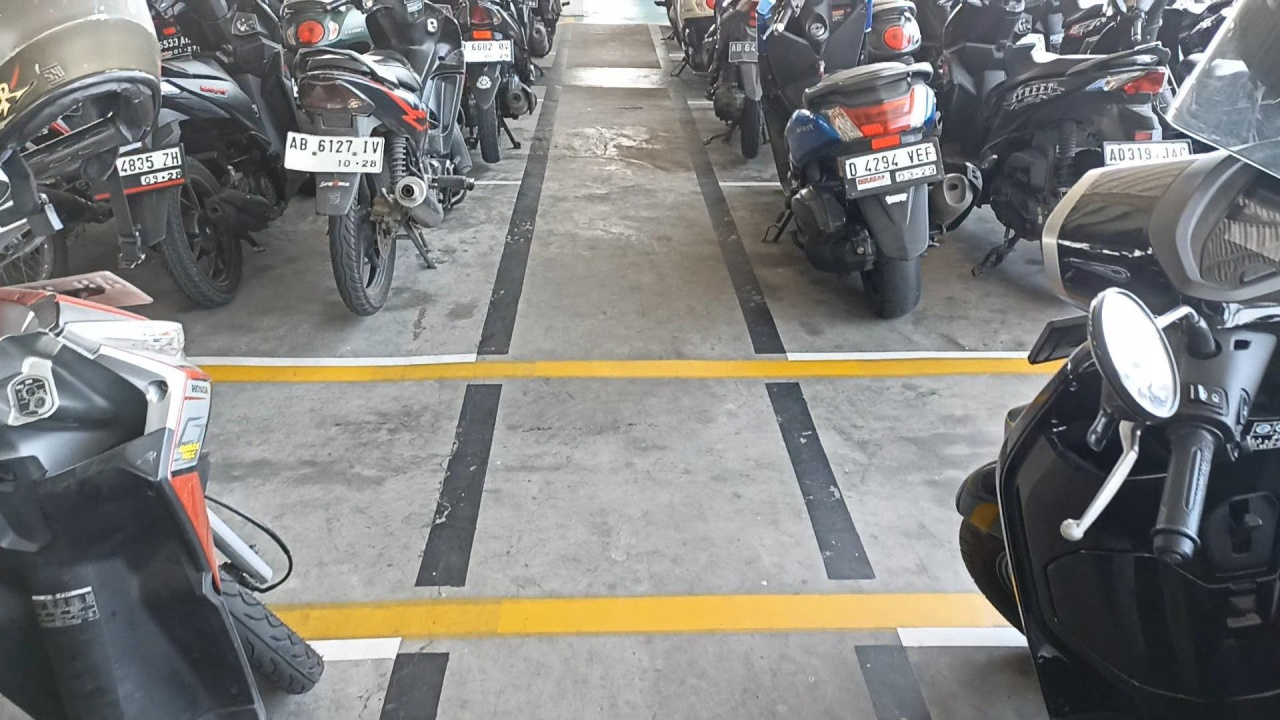plate: (843, 139, 944, 198), (285, 132, 384, 172)
